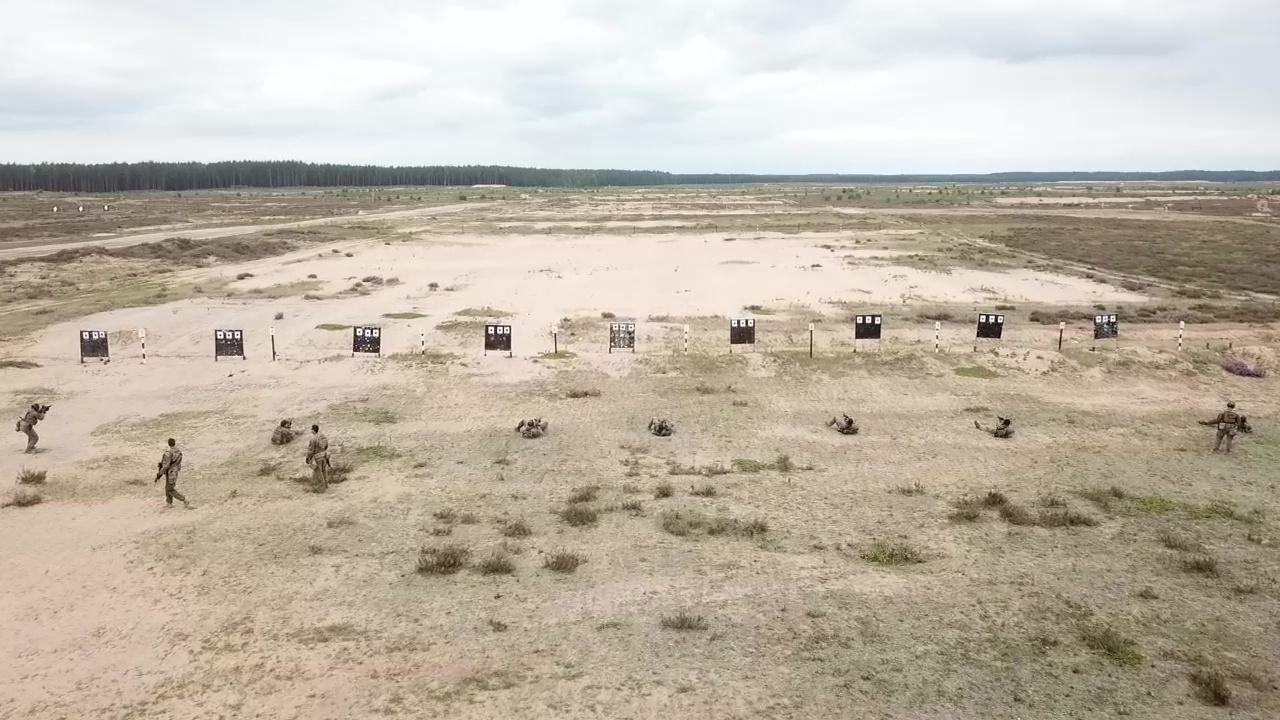Soldier: (154, 435, 192, 509), (12, 397, 56, 456), (305, 423, 336, 493), (1211, 401, 1240, 456), (970, 410, 1016, 441), (513, 412, 549, 441), (271, 414, 304, 445), (823, 411, 858, 439)
